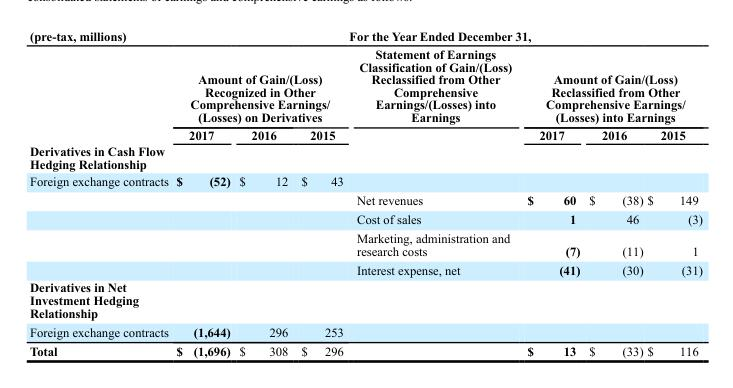table: (28, 28, 701, 357)
table column: (349, 28, 518, 357), (28, 28, 171, 357), (518, 28, 583, 357), (171, 28, 234, 357), (583, 28, 644, 357), (234, 28, 293, 357), (644, 28, 701, 357), (293, 28, 349, 357)
table column header: (28, 28, 701, 142)
table projected row header: (28, 278, 701, 321), (28, 142, 701, 172)
table row: (28, 44, 701, 125), (28, 278, 701, 321), (28, 228, 701, 260), (28, 142, 701, 172), (28, 190, 701, 209), (28, 209, 701, 228), (28, 321, 701, 340), (28, 172, 701, 190), (28, 260, 701, 278), (28, 125, 701, 142), (28, 340, 701, 357), (28, 28, 701, 44)
table spanning cell: (349, 44, 518, 142), (28, 28, 171, 142), (518, 44, 701, 125), (171, 44, 349, 125), (171, 28, 701, 44)
